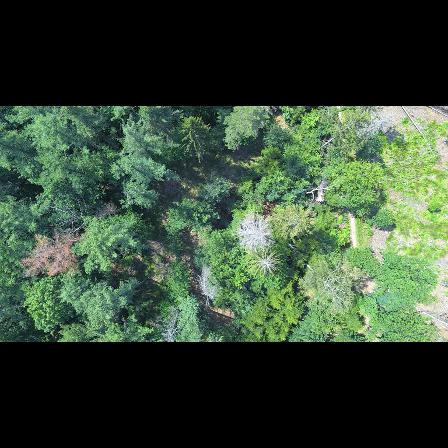Dead: (235, 213, 274, 251), (154, 309, 182, 342), (197, 268, 216, 312)
Sick: (252, 253, 280, 275)
